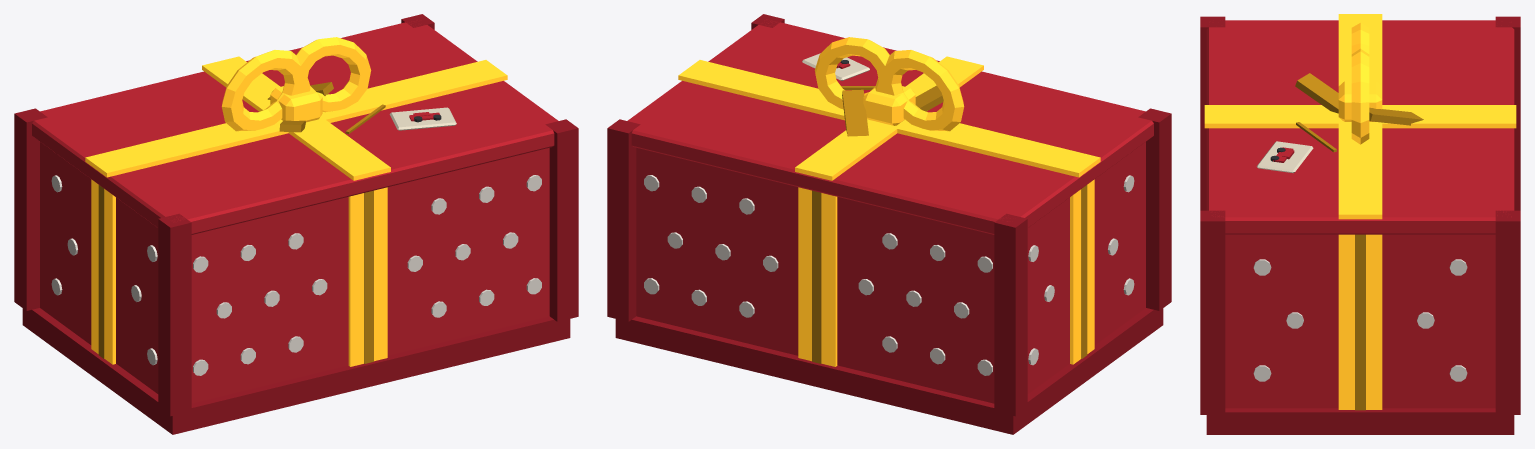
Rendered from welcome_crate.glb.
3 views of the same model, side by side, from view 1: azimuth 30°, elevation 25°; view 2: azimuth 150°, elevation 25°; view 3: azimuth 270°, elevation 25° (orthographic). The views are drawn at different scales.
Parts seen in each view (by area): view 1: Panel.001, LidBoard, Panel.003, Pallet, LidRibbonX, Post, Post.002, Ribbon.001, Post.001, LidRibbonY, BowLoop, Ribbon.003 (+5 smaller); view 2: Panel, LidBoard, Panel.003, Pallet, LidRibbonX, Post.001, Post.003, Ribbon, Post, LidRibbonY, BowLoop, Ribbon.003 (+6 smaller); view 3: LidBoard, Panel.002, Pallet, LidRibbonX, Ribbon.002, LidRibbonY, Post.002, Post.003, RibbonLine.002, BowLoop.001, Post, Post.001 (+7 smaller).
Part boxes in pixels (<box>): Panel.001: <box>191,148,549,403</box>; LidBoard: <box>32,20,558,234</box>; Panel.003: <box>42,143,158,393</box>; Pallet: <box>22,308,570,434</box>; LidRibbonX: <box>85,60,507,177</box>; Post: <box>158,213,191,416</box>; Post.002: <box>545,119,578,321</box>; Ribbon.001: <box>348,187,387,366</box>; Post.001: <box>14,108,47,310</box>; LidRibbonY: <box>202,56,390,180</box>; BowLoop: <box>221,50,304,131</box>; Ribbon.003: <box>91,179,115,364</box>; Panel: <box>636,148,994,403</box>; LidBoard: <box>627,19,1153,234</box>; Panel.003: <box>1027,143,1143,393</box>; Pallet: <box>615,308,1163,434</box>; LidRibbonX: <box>678,60,1100,177</box>; Post.001: <box>994,213,1027,416</box>; Post.003: <box>607,119,640,321</box>; Ribbon: <box>798,187,837,366</box>; Post: <box>1138,108,1171,310</box>; LidRibbonY: <box>795,56,983,180</box>; BowLoop: <box>881,50,964,131</box>; Ribbon.003: <box>1070,179,1094,364</box>; LidBoard: <box>1206,20,1514,234</box>; Panel.002: <box>1229,234,1491,408</box>; Pallet: <box>1206,408,1514,434</box>; LidRibbonX: <box>1338,14,1382,219</box>; Ribbon.002: <box>1338,234,1382,409</box>; LidRibbonY: <box>1204,105,1516,128</box>; Post.002: <box>1200,210,1225,414</box>; Post.003: <box>1495,210,1520,414</box>; RibbonLine.002: <box>1355,234,1365,410</box>; BowLoop.001: <box>1351,48,1369,144</box>; Post: <box>1200,16,1225,210</box>; Post.001: <box>1495,16,1520,210</box>.
Bounding box in the file's own units: 0.77 × 0.5177 × 0.51.
